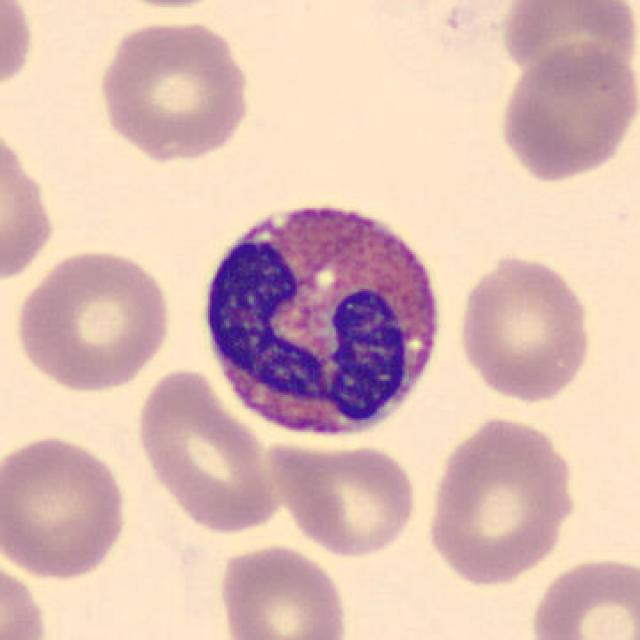Eosinophil: (191, 183, 454, 453)
RBC: (423, 412, 581, 589), (130, 361, 284, 538), (11, 243, 176, 395), (92, 16, 256, 162), (454, 248, 596, 406), (494, 40, 638, 184), (0, 430, 132, 582), (265, 439, 421, 561), (213, 541, 352, 640), (496, 0, 640, 90), (0, 116, 59, 291), (526, 552, 638, 640), (0, 552, 52, 640), (0, 0, 37, 102), (90, 0, 241, 12)
